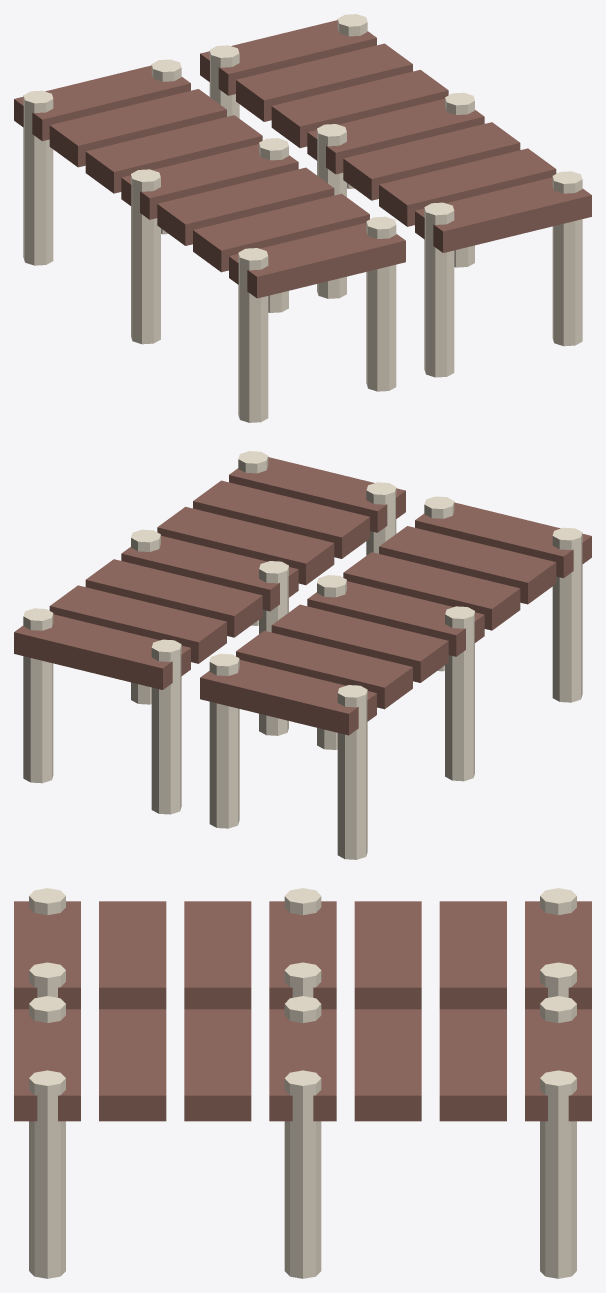
File: quay.glb
3 renders of one model, top to bottom at view 1: azimuth 30°, elevation 25°; view 2: azimuth 150°, elevation 25°; view 3: azimuth 270°, elevation 25°, orthographic. The views are drawn at different scales.
Parts seen in each view (by area): view 1: Quay plank.007, Quay plank, Quay plank.005, Quay plank.002, Quay plank.009, Quay plank.012, Quay plank.011, Quay plank.004, Quay plank.008, Quay plank.001, Quay plank.003, Quay plank.010 (+14 smaller); view 2: Quay plank.013, Quay plank.006, Quay plank.001, Quay plank.004, Quay plank.011, Quay plank.008, Quay plank.009, Quay plank.002, Quay plank.012, Quay plank.005, Quay plank.003, Quay plank.010 (+14 smaller); view 3: Quay plank.008, Quay plank.009, Quay plank.011, Quay plank.012, Quay plank.001, Quay plank.002, Quay plank.004, Quay plank.005, Stilt.010, Stilt.009, Stilt.011, Quay plank.010 (+14 smaller).
Boxes of the visible parts, left/top/right/bottom form: Quay plank.007: left=415, top=177, right=591, bottom=252; Quay plank: left=229, top=223, right=405, bottom=298; Quay plank.005: left=49, top=89, right=226, bottom=167; Quay plank.002: left=157, top=167, right=334, bottom=245; Quay plank.009: left=343, top=122, right=520, bottom=200; Quay plank.012: left=236, top=43, right=412, bottom=121; Quay plank.011: left=271, top=69, right=448, bottom=148; Quay plank.004: left=85, top=115, right=262, bottom=193; Quay plank.008: left=379, top=148, right=556, bottom=226; Quay plank.001: left=193, top=193, right=369, bottom=272; Quay plank.003: left=121, top=144, right=298, bottom=219; Quay plank.010: left=307, top=98, right=484, bottom=174; Quay plank.013: left=14, top=614, right=190, bottom=689; Quay plank.006: left=200, top=660, right=376, bottom=735; Quay plank.001: left=379, top=526, right=556, bottom=604; Quay plank.004: left=271, top=604, right=448, bottom=682; Quay plank.011: left=85, top=559, right=262, bottom=637; Quay plank.008: left=193, top=480, right=369, bottom=558; Quay plank.009: left=157, top=506, right=334, bottom=585; Quay plank.002: left=343, top=552, right=520, bottom=630; Quay plank.012: left=49, top=585, right=226, bottom=663; Quay plank.005: left=236, top=630, right=412, bottom=709; Quay plank.003: left=307, top=581, right=484, bottom=656; Quay plank.010: left=121, top=535, right=298, bottom=611; Quay plank.008: left=99, top=1009, right=166, bottom=1121; Quay plank.009: left=184, top=1009, right=251, bottom=1121; Quay plank.011: left=354, top=1009, right=421, bottom=1121; Quay plank.012: left=439, top=1009, right=506, bottom=1121; Quay plank.001: left=99, top=901, right=166, bottom=1009; Quay plank.002: left=184, top=901, right=251, bottom=1009; Quay plank.004: left=354, top=901, right=421, bottom=1009; Quay plank.005: left=439, top=901, right=506, bottom=1009; Stilt.010: left=284, top=1070, right=321, bottom=1278; Stilt.009: left=29, top=1070, right=65, bottom=1278; Stilt.011: left=540, top=1070, right=576, bottom=1278; Quay plank.010: left=269, top=1009, right=336, bottom=1121.
Size of the model in its own units: 1.65 by 0.75 by 2.04.
